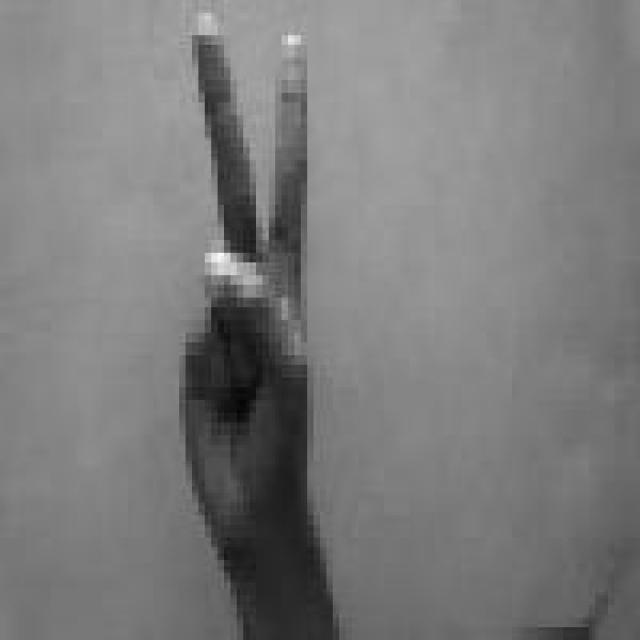V: (160, 11, 333, 571)
